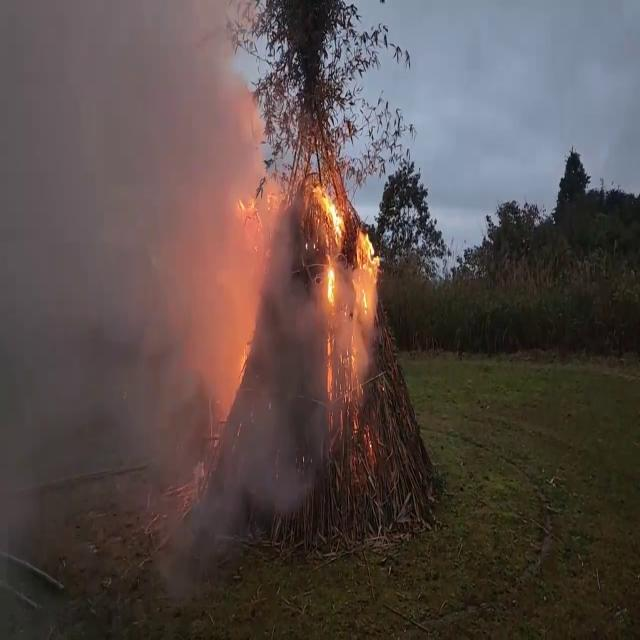Fire: (300, 150, 379, 402)
Smoke: (0, 2, 314, 577)
